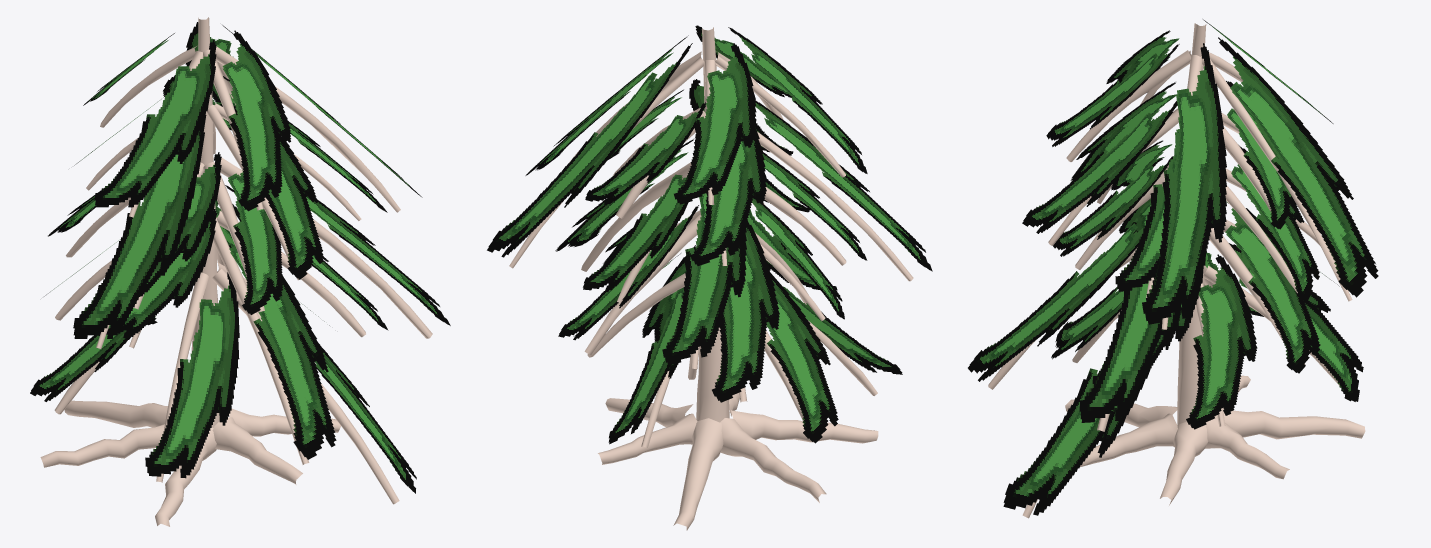
File: crowned_pine_01.glb
The picture shows the model from 3 angles, left to right: view 1: azimuth 30°, elevation 25°; view 2: azimuth 150°, elevation 25°; view 3: azimuth 270°, elevation 25°; orthographic projection.
Visible parts, largest first — view 1: crowned_pine_01; view 2: crowned_pine_01; view 3: crowned_pine_01.
Boxes of the visible parts, x1,y1,x2,y2 form: crowned_pine_01: (30, 17, 450, 526); crowned_pine_01: (487, 25, 932, 530); crowned_pine_01: (968, 19, 1378, 518).
Size of the model in its own units: 5.76 by 6.28 by 5.8.
2 materials, 1 textured.
